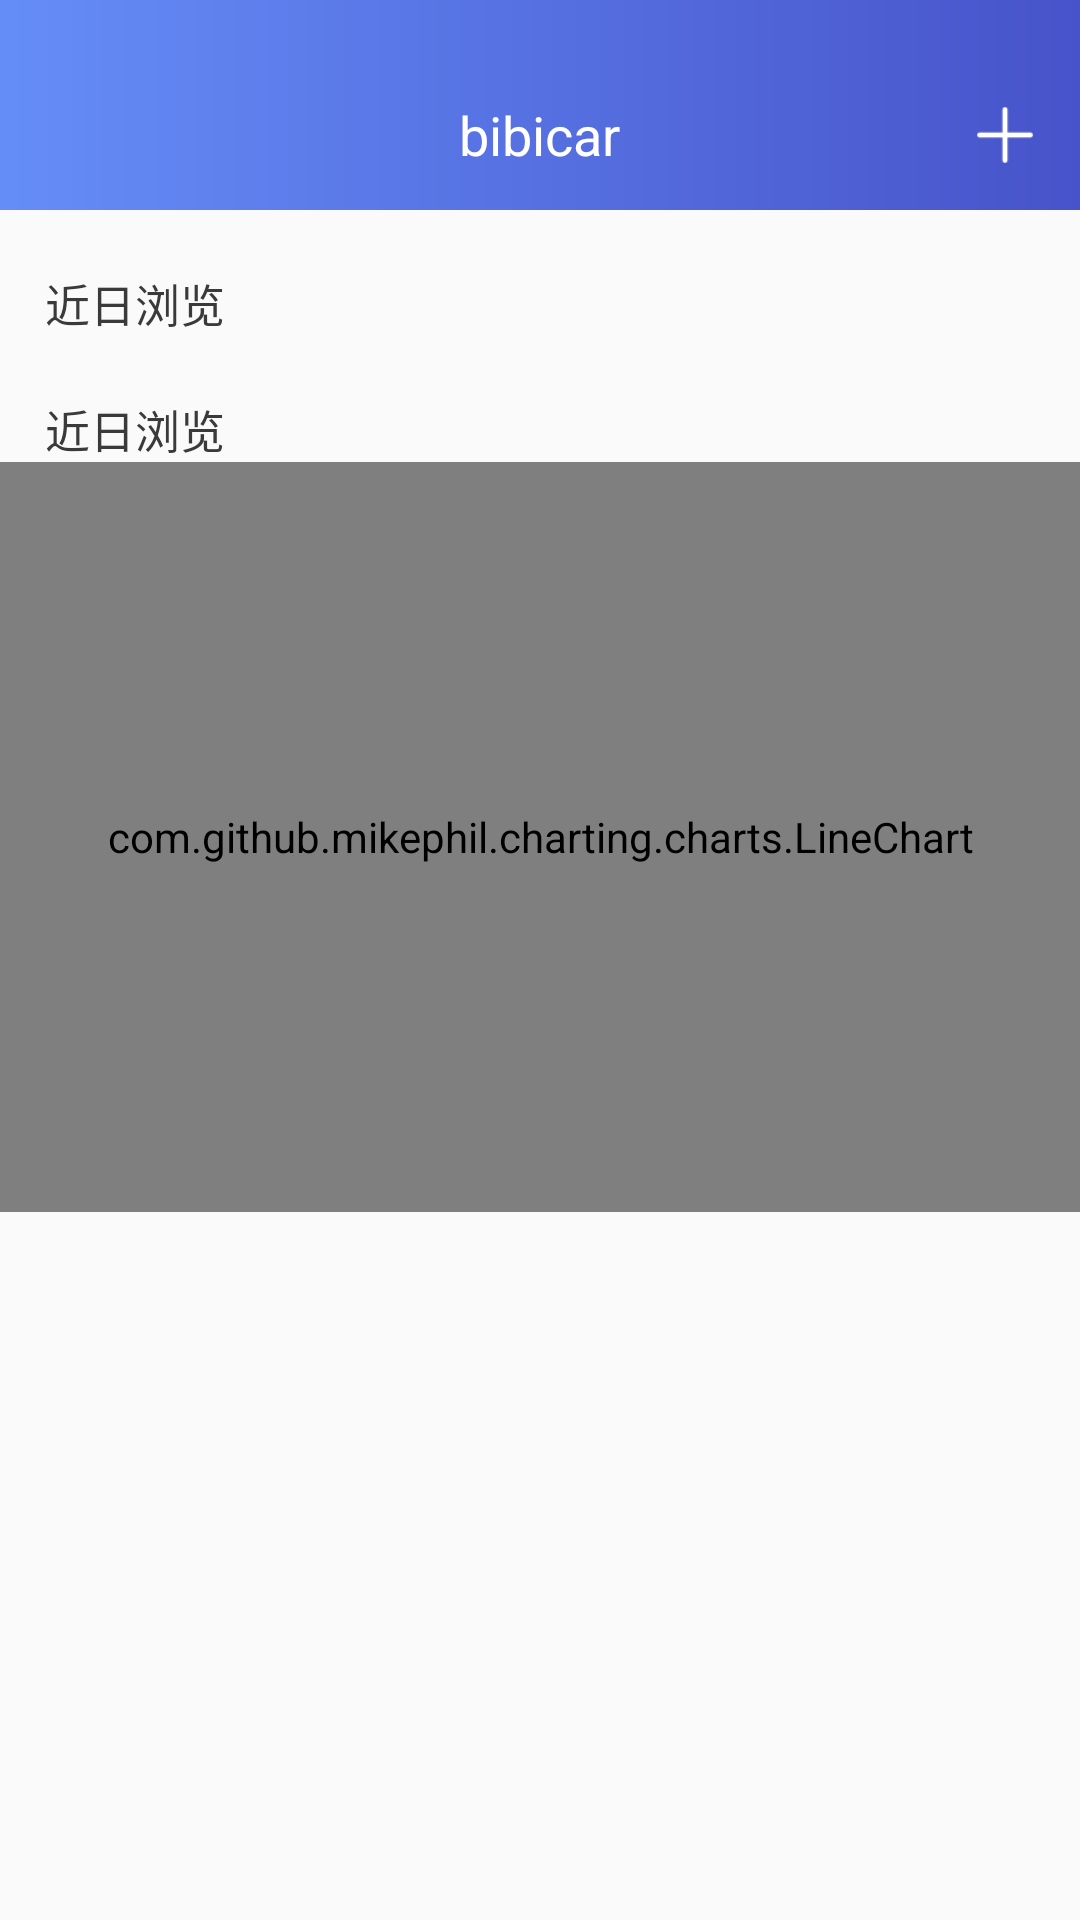

Icons on this 1080 × 1920 Android screen, each with the point to tap as point (x, y):
title bar add: point (1005, 135)
